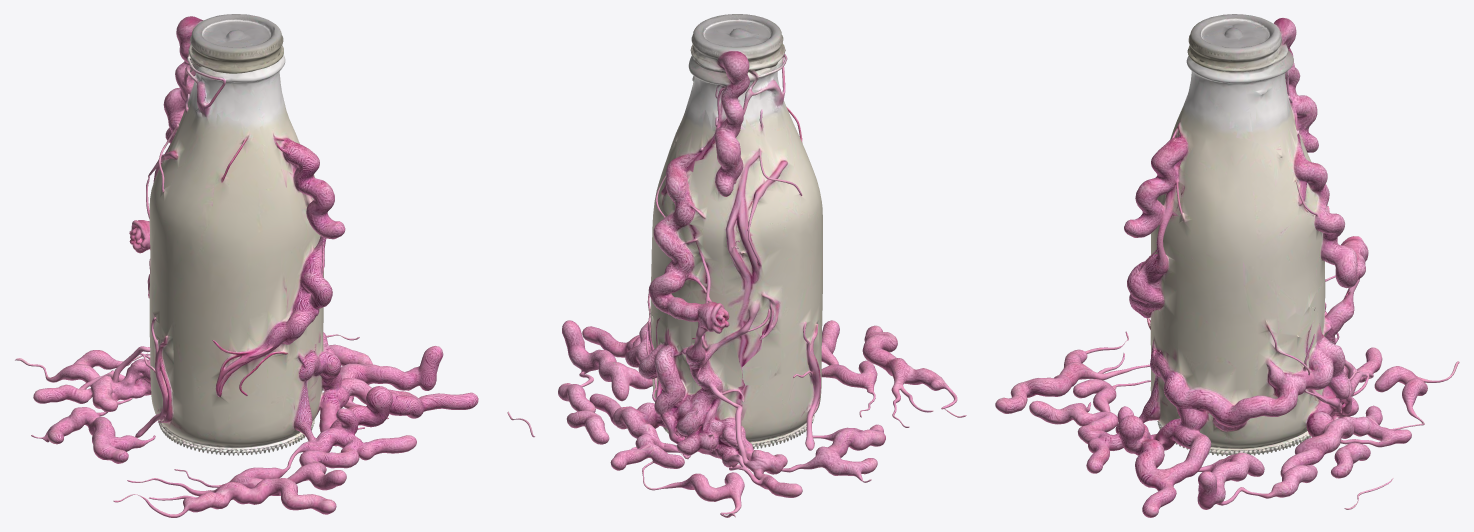
Rendered from Milk.glb.
The picture shows the model from 3 angles, left to right: view 1: azimuth 30°, elevation 25°; view 2: azimuth 150°, elevation 25°; view 3: azimuth 270°, elevation 25°; orthographic projection.
Parts seen in each view (by area): view 1: Mesh_0; view 2: Mesh_0; view 3: Mesh_0.
Part boxes in pixels (x1,y1,x2,y2): Mesh_0: (15, 14, 478, 517); Mesh_0: (507, 14, 966, 517); Mesh_0: (995, 14, 1459, 517).
Bounding box in the file's own units: 1.78 × 1.8 × 1.9.
1 material, 1 textured.
